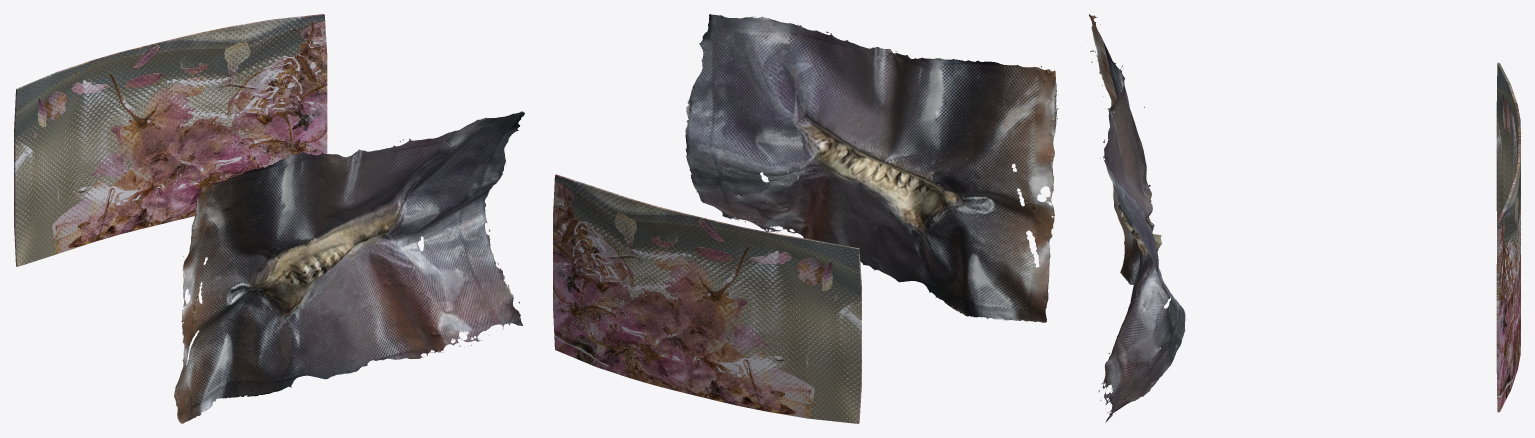
The model's file is wald_iii.glb.
3 views of the same model, side by side, from view 1: azimuth 30°, elevation 25°; view 2: azimuth 150°, elevation 25°; view 3: azimuth 270°, elevation 25° (orthographic). The views are drawn at different scales.
Parts seen in each view (by area): view 1: knochen, videotarget; view 2: knochen, videotarget; view 3: knochen, videotarget.
Boxes of the visible parts, box(x1,y1,x2,y2) form: knochen: box(174, 111, 524, 423); videotarget: box(14, 14, 327, 266); knochen: box(685, 14, 1058, 322); videotarget: box(553, 174, 861, 423); knochen: box(1089, 14, 1185, 422); videotarget: box(1496, 62, 1520, 412).
Bounding box in the file's own units: 2.97 × 2 × 2.98.
Materials: 2 (2 with a texture image).
